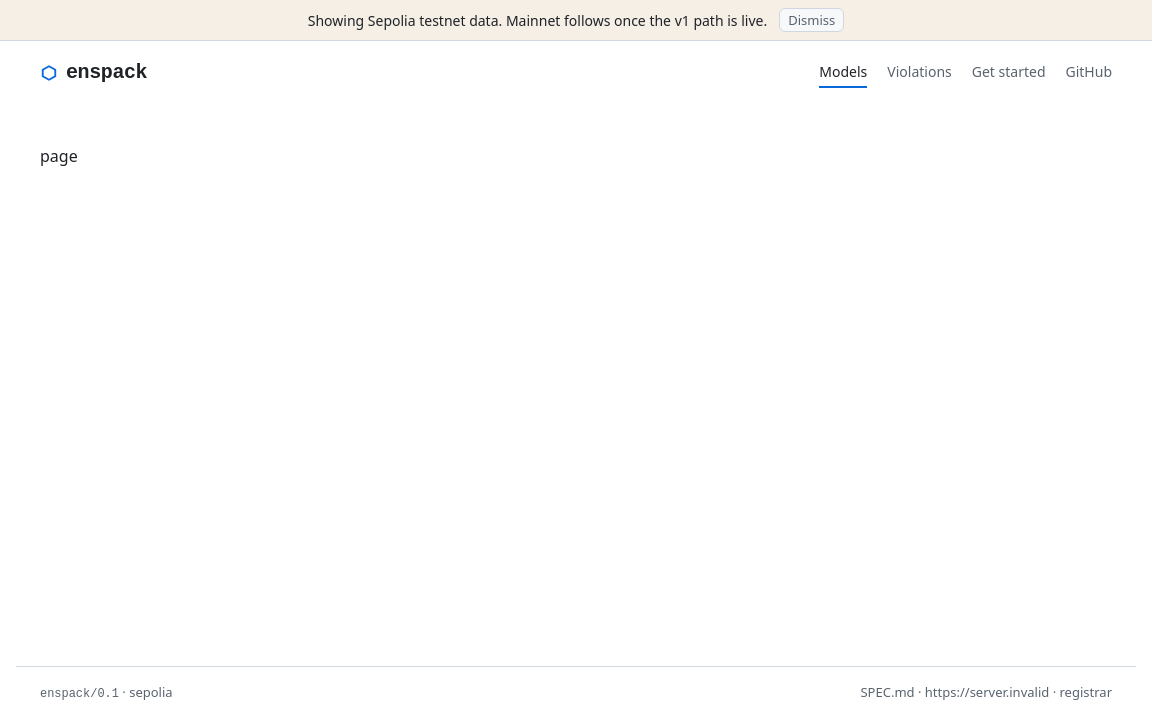
it: Layout › renders the Sepolia banner and hides it after dismiss
Expected: the text "Showing Sepolia testnet data. Mainnet follows once the v1 path is live." is shown, [308,10,767,31]
Click the button "Dismiss": click(812, 20) [779,8,844,32]
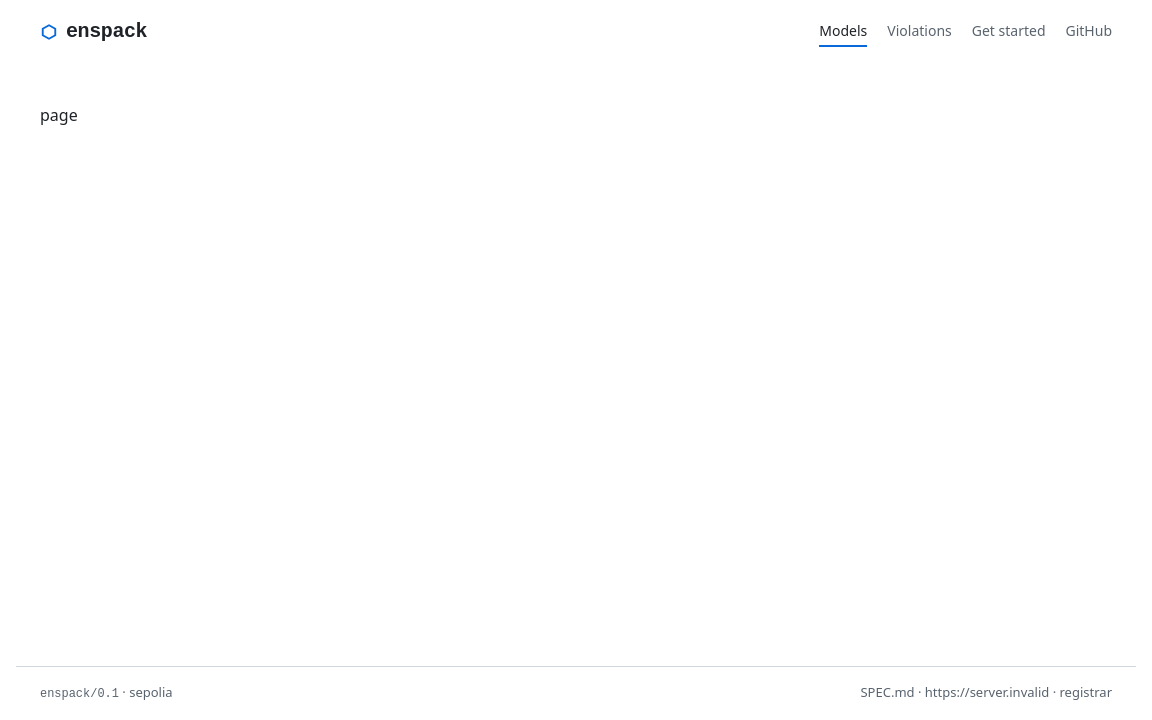
Result: the text "Showing Sepolia testnet data. Mainnet follows once the v1 path is live." is gone
